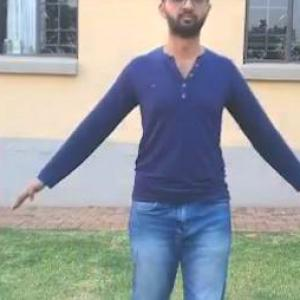land: (34, 0, 300, 299)
